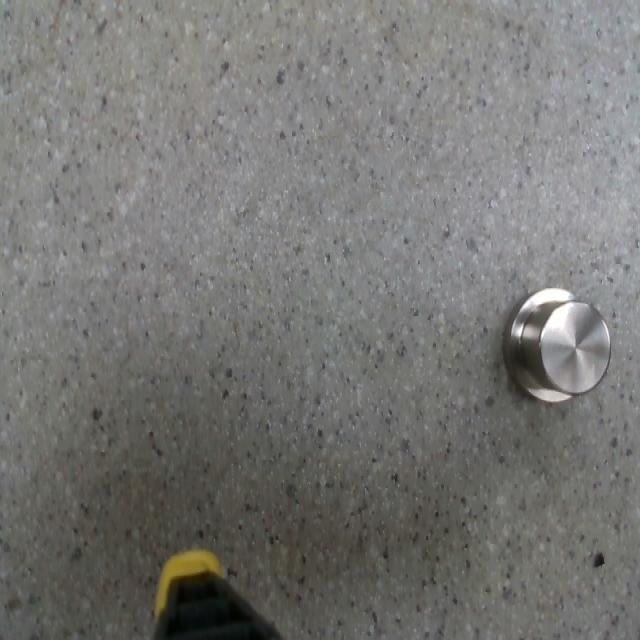sensor: (504, 290, 612, 403)
